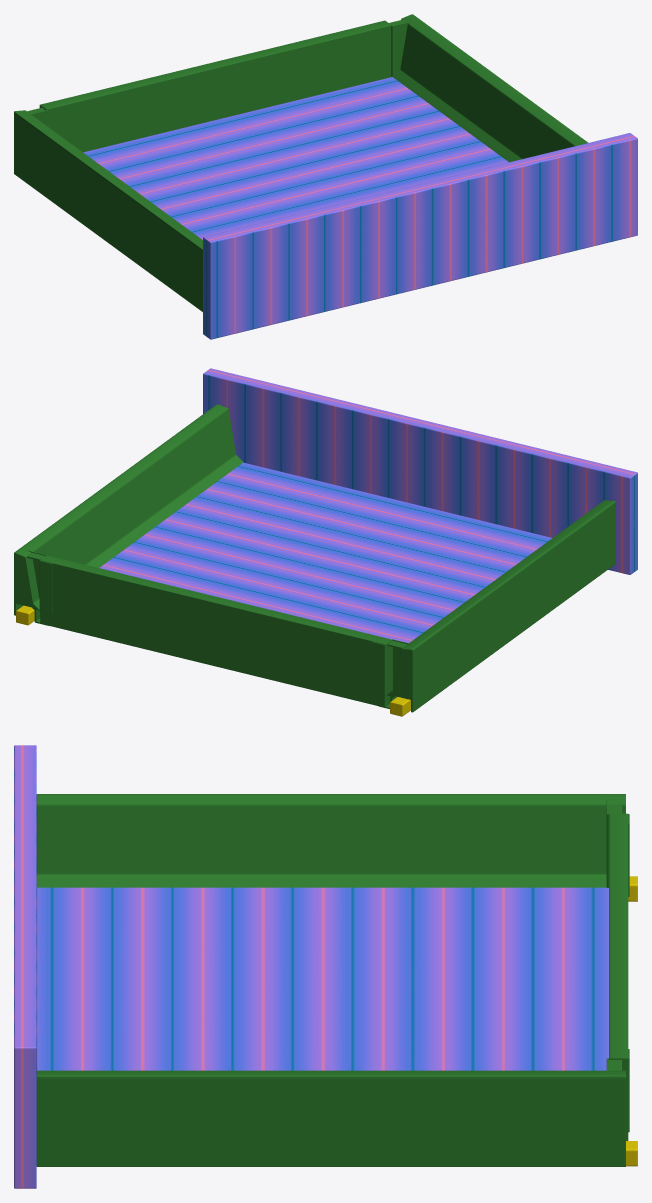
Rendered from SM_Kitchen_05_Base_Drawer_01.fbx.
3 views of the same model, one above another, from view 1: azimuth 30°, elevation 25°; view 2: azimuth 150°, elevation 25°; view 3: azimuth 270°, elevation 25° (orthographic). The views are drawn at different scales.
Visible parts, largest first — view 1: SM_Kitchen_05_Base_Drawer_01; view 2: SM_Kitchen_05_Base_Drawer_01; view 3: SM_Kitchen_05_Base_Drawer_01.
Part boxes in pixels (box(x1,y1,x2,y2)): SM_Kitchen_05_Base_Drawer_01: box(14, 14, 637, 339); SM_Kitchen_05_Base_Drawer_01: box(14, 368, 637, 716); SM_Kitchen_05_Base_Drawer_01: box(14, 745, 637, 1188).
Size of the model in its own units: 59.69 by 13 by 51.99.
Materials: 4 (2 with a texture image).
